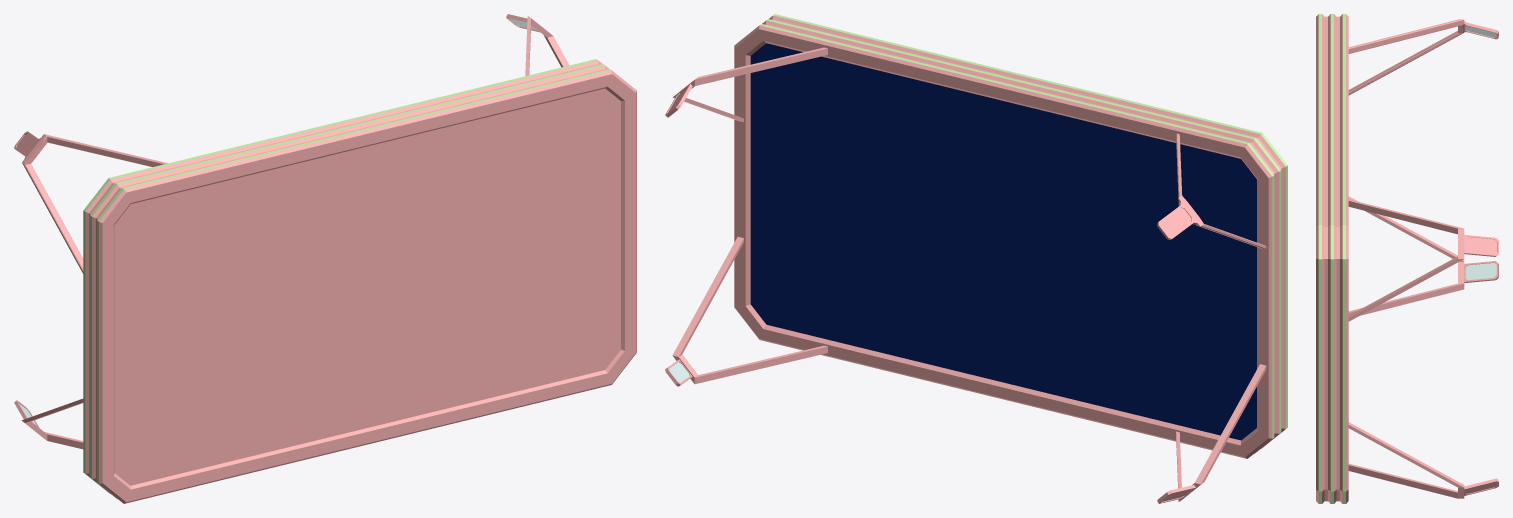
Rendered from Arena_V1.fbx.
3 renders of one model, left to right at view 1: azimuth 30°, elevation 25°; view 2: azimuth 150°, elevation 25°; view 3: azimuth 270°, elevation 25°, orthographic. The views are drawn at different scales.
Visible parts, largest first — view 1: Mirror7; view 2: Mirror7; view 3: Mirror7.
Boxes of the visible parts, x1,y1,x2,y2 form: Mirror7: [14, 14, 636, 503]; Mirror7: [665, 14, 1287, 503]; Mirror7: [1316, 14, 1498, 503].
Size of the model in its own units: 170 by 95 by 56.39.
